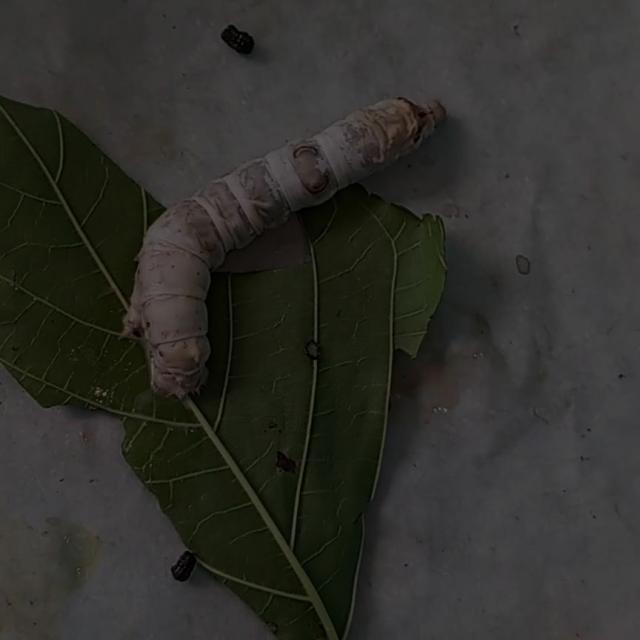Grasserie: (104, 82, 456, 398)
